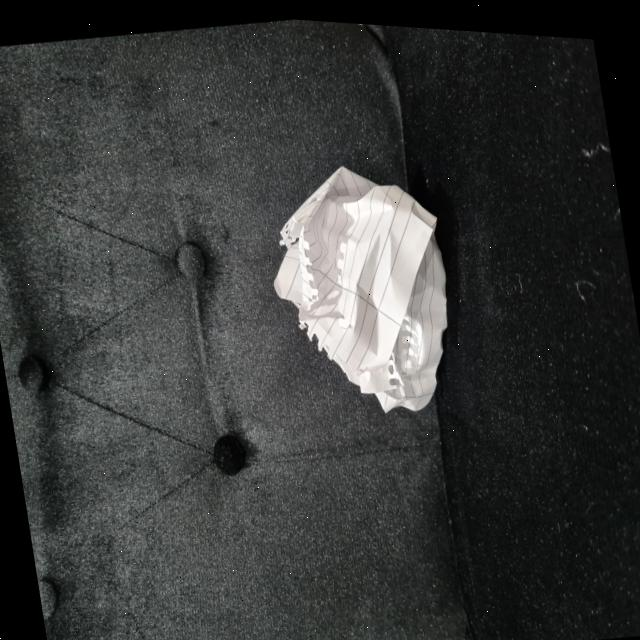Dry: (259, 149, 468, 430)
